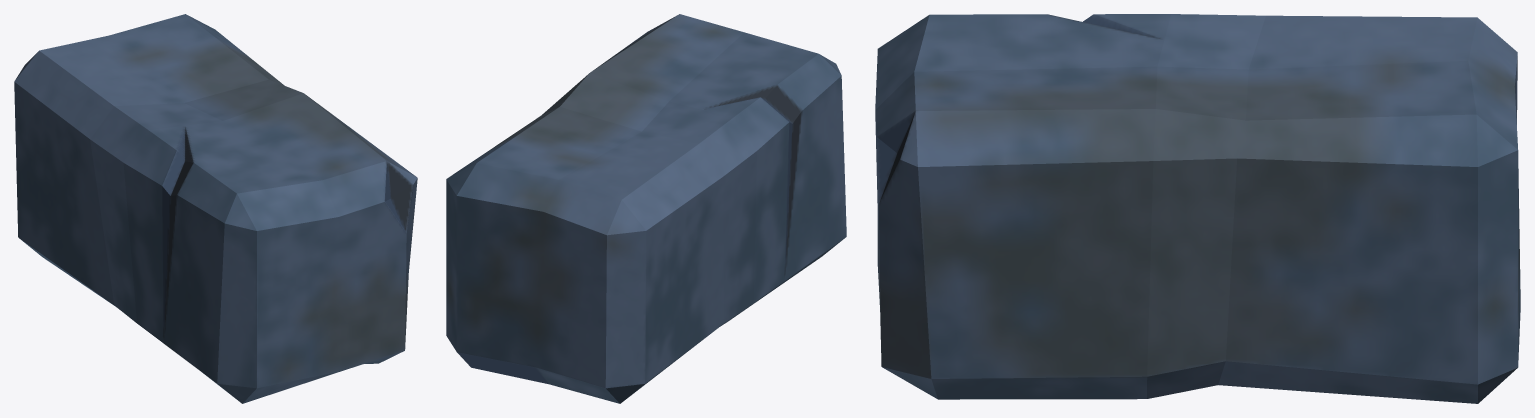
Rendered from Tetris_4.fbx.
The picture shows the model from 3 angles, left to right: view 1: azimuth 30°, elevation 25°; view 2: azimuth 150°, elevation 25°; view 3: azimuth 270°, elevation 25°; orthographic projection. The views are drawn at different scales.
Parts seen in each view (by area): view 1: Tetris_1.007; view 2: Tetris_1.007; view 3: Tetris_1.007.
Boxes of the visible parts, bbox=[...] form: Tetris_1.007: bbox=[14, 14, 417, 403]; Tetris_1.007: bbox=[446, 14, 846, 403]; Tetris_1.007: bbox=[875, 14, 1520, 403].
Size of the model in its own units: 202 by 209 by 403.
